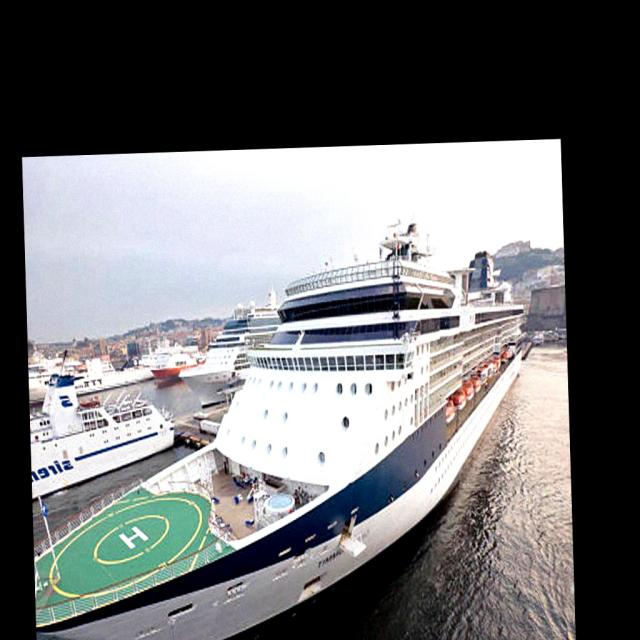helipad: (88, 511, 171, 567)
